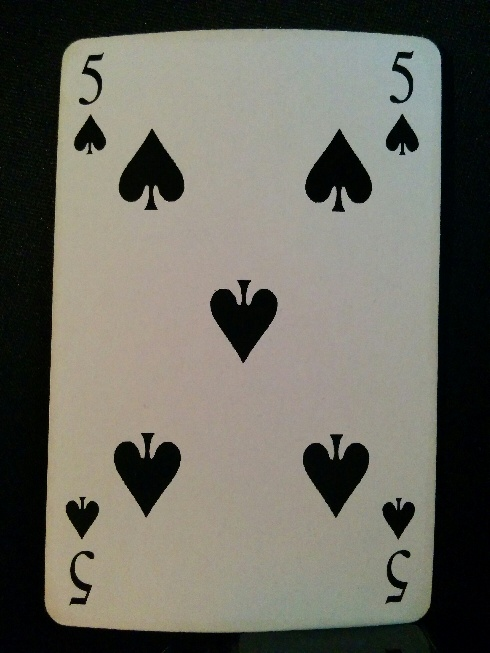S5: (375, 490, 420, 609), (61, 492, 104, 609), (382, 46, 422, 160), (73, 48, 110, 156)
